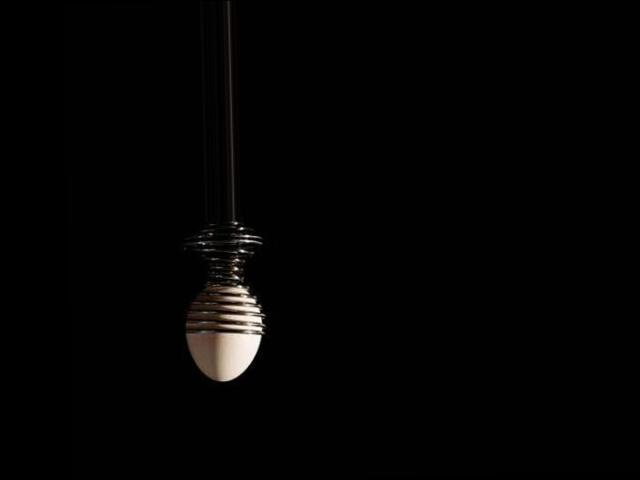egg: (185, 284, 263, 382)
